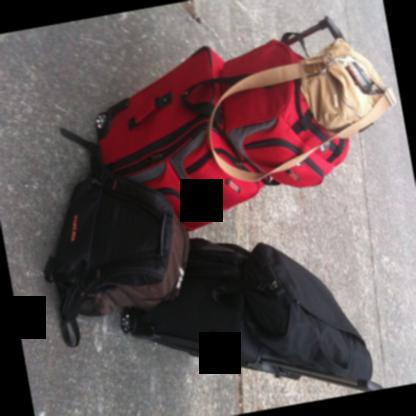backpack: (43, 127, 189, 349)
handbag: (239, 240, 372, 382)
suitcase: (118, 238, 379, 393), (92, 47, 265, 234), (218, 38, 350, 189)
